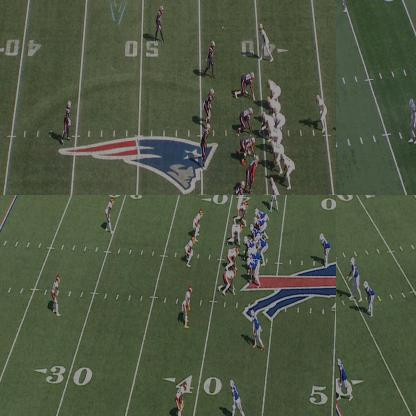CENTER: (260, 116, 272, 142), (242, 235, 256, 256)
DB: (184, 286, 194, 329), (50, 275, 61, 313), (175, 383, 187, 415), (408, 95, 415, 143), (64, 98, 71, 145), (104, 197, 113, 230), (156, 3, 163, 40), (232, 181, 244, 194)
LB: (246, 155, 259, 189), (203, 89, 215, 124), (199, 124, 209, 163), (207, 40, 217, 76), (183, 238, 194, 269), (194, 212, 204, 241)
QB: (256, 234, 268, 260), (351, 257, 359, 294), (273, 107, 286, 128)
SKILL: (336, 358, 352, 402), (279, 152, 295, 188), (229, 378, 244, 415), (260, 24, 273, 64), (316, 94, 328, 133), (364, 279, 374, 318), (252, 311, 262, 348), (319, 233, 329, 264), (271, 179, 286, 194), (255, 208, 269, 220), (270, 195, 278, 212)
